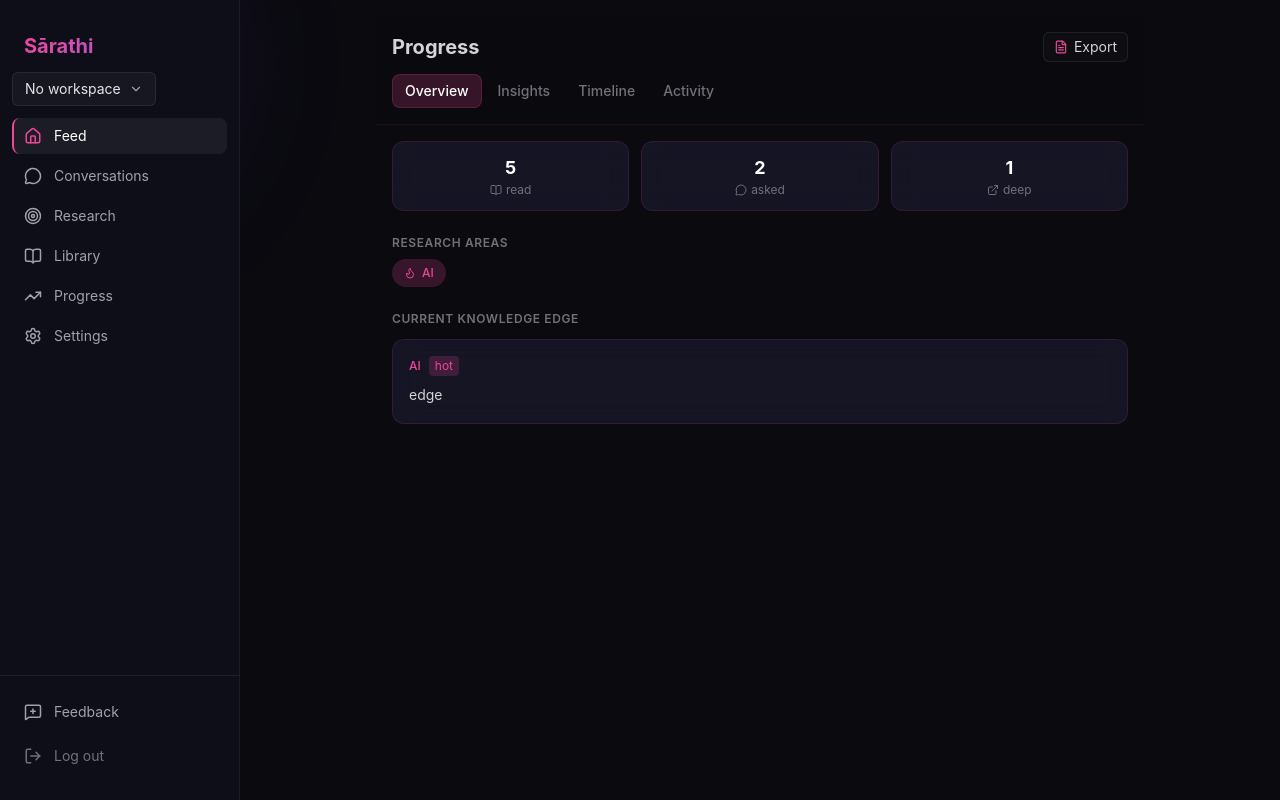
Profile page › shows empty state when no briefs exist
Click the button "activity": (689, 91) [651, 74, 726, 108]
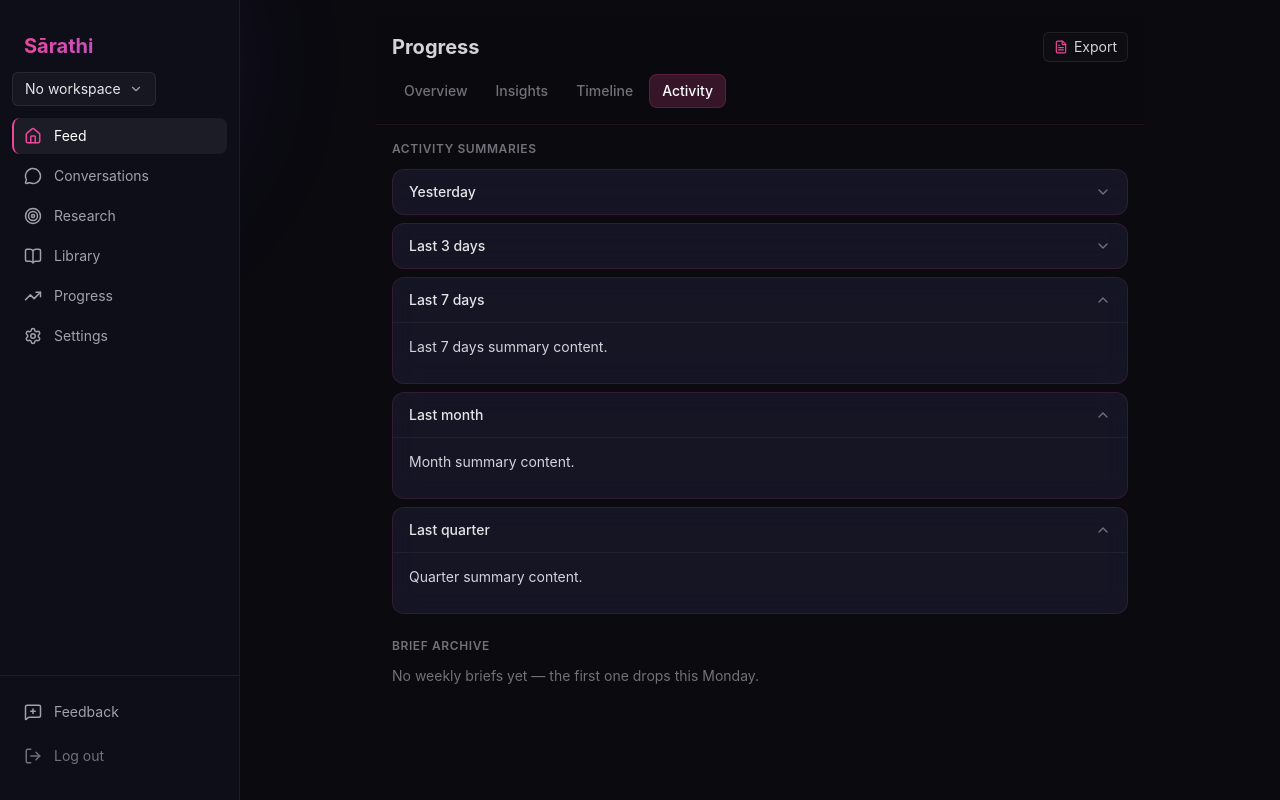
Check: the text "No weekly briefs yet — the first one drops this Monday." is shown, box [392, 667, 759, 684]
